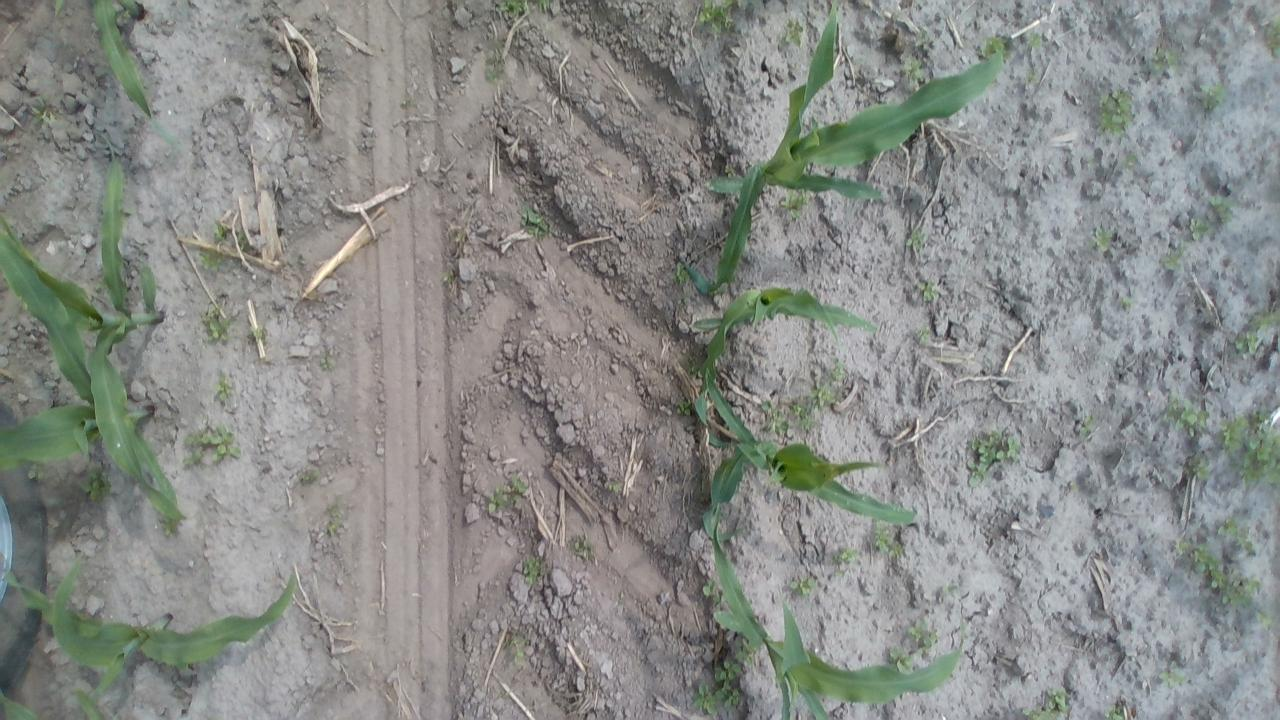Maize: (689, 5, 1010, 295), (8, 143, 181, 524), (0, 224, 187, 512), (1, 553, 300, 709), (701, 550, 972, 716), (694, 376, 919, 534), (676, 281, 884, 411), (73, 0, 181, 161), (0, 676, 127, 720)
Weeds: (1180, 540, 1259, 610), (688, 642, 756, 718), (1221, 404, 1277, 487), (966, 425, 1022, 486), (180, 426, 244, 472), (1232, 303, 1276, 357), (759, 398, 812, 440), (1094, 86, 1136, 138), (484, 474, 530, 518), (1161, 392, 1207, 434), (1020, 685, 1072, 719), (516, 200, 557, 243), (1216, 516, 1260, 552), (870, 524, 908, 562), (806, 373, 842, 412), (80, 463, 114, 504), (499, 630, 534, 667), (697, 0, 735, 33), (1192, 82, 1230, 113), (1206, 192, 1238, 228), (200, 306, 230, 344), (779, 190, 810, 225), (907, 620, 938, 654), (518, 556, 550, 588), (1146, 44, 1180, 74), (788, 572, 818, 602), (978, 34, 1011, 61), (484, 45, 506, 85), (1161, 242, 1188, 274), (496, 0, 534, 21), (326, 495, 346, 534), (1185, 214, 1213, 241), (570, 535, 596, 564), (194, 250, 225, 274), (833, 546, 860, 573), (1074, 410, 1098, 440), (30, 98, 56, 125), (888, 646, 915, 672), (214, 371, 235, 404), (783, 16, 805, 47), (1262, 15, 1277, 58), (1102, 699, 1134, 719), (1188, 455, 1212, 481), (904, 226, 928, 252), (1092, 224, 1114, 252), (902, 55, 924, 82), (1160, 663, 1183, 688), (156, 514, 181, 536), (916, 278, 940, 300), (295, 466, 321, 486), (212, 224, 238, 244), (671, 260, 691, 285), (699, 578, 718, 602), (318, 350, 337, 374), (604, 478, 626, 498), (1024, 30, 1044, 52), (1253, 608, 1275, 628), (912, 323, 931, 344), (1118, 152, 1140, 170), (674, 397, 694, 416), (449, 228, 468, 246), (441, 268, 457, 286), (249, 324, 265, 341), (914, 31, 928, 50), (1024, 70, 1040, 86), (1118, 296, 1133, 310)
